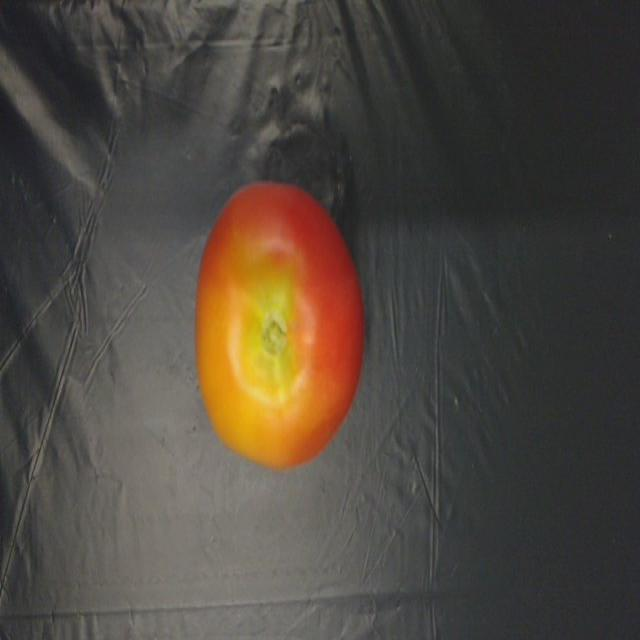sari: (190, 152, 371, 472)
